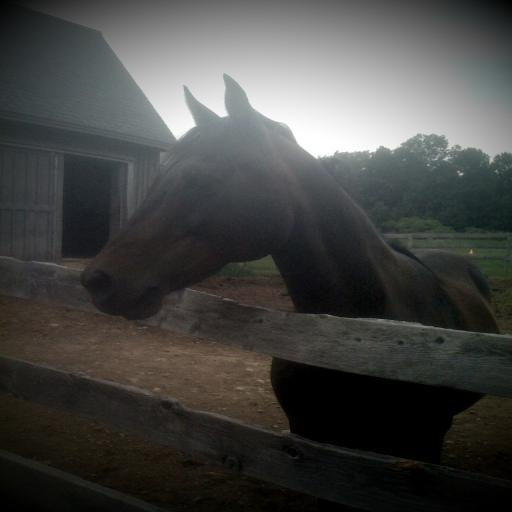horse: (79, 70, 498, 465)
